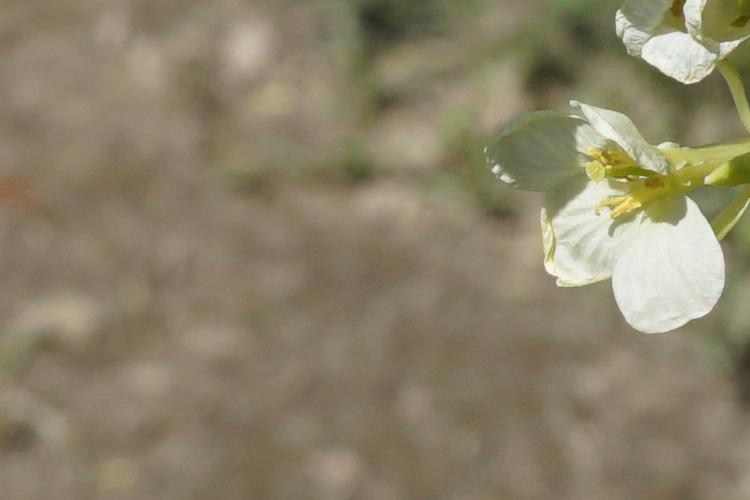white: (507, 104, 740, 336), (617, 9, 750, 88)
